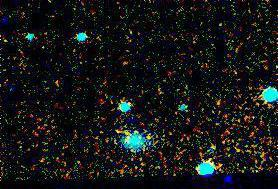star: (135, 124, 165, 154)
